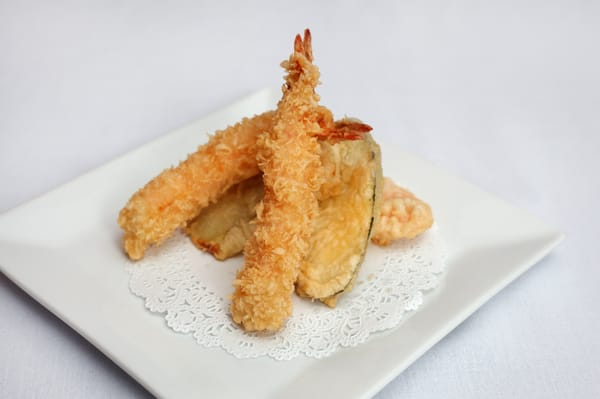sushi: (118, 28, 400, 337)
